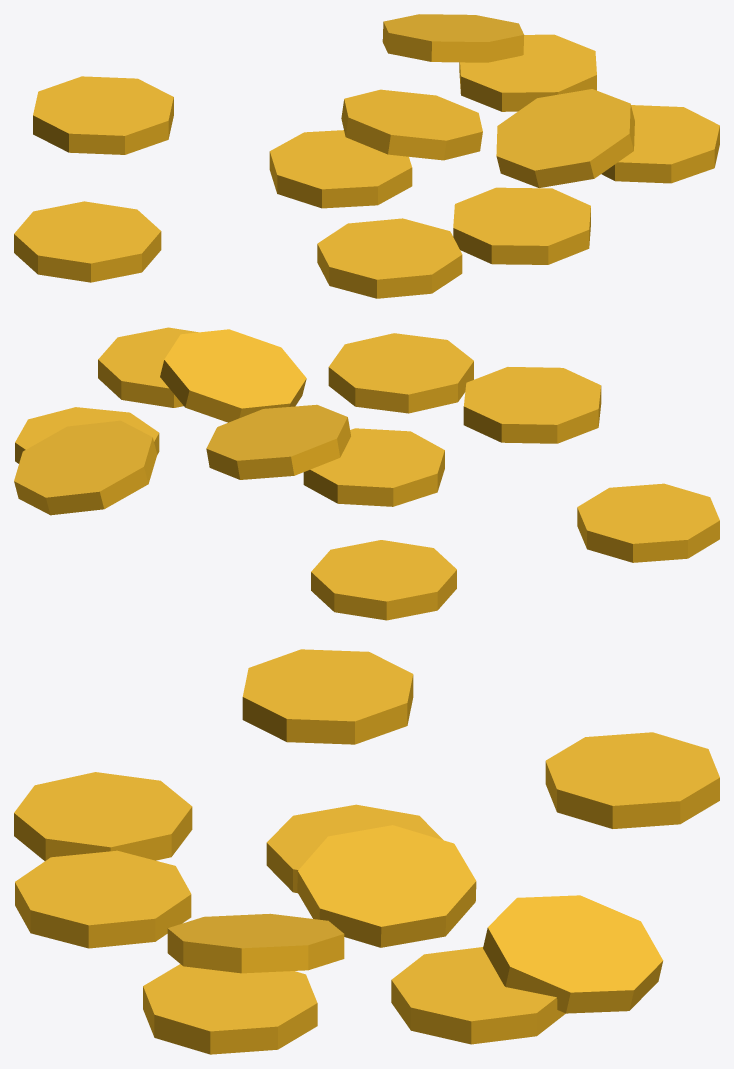
File: TreasureCoins_01.glb
3 renders of one model, top to bottom at view 1: azimuth 30°, elevation 25°; view 2: azimuth 150°, elevation 25°; view 3: azimuth 270°, elevation 25°, orthographic. The views are drawn at different scales.
Parts seen in each view (by area): view 1: TreasureCoins_01; view 2: TreasureCoins_01; view 3: TreasureCoins_01.
Part boxes in pixels (x1,y1,x2,y2): TreasureCoins_01: [14, 14, 719, 298]; TreasureCoins_01: [14, 327, 719, 620]; TreasureCoins_01: [14, 649, 719, 1054].
Size of the model in its own units: 0.3655 by 0.0272 by 0.2854.
Materials: 1 (1 with a texture image).
